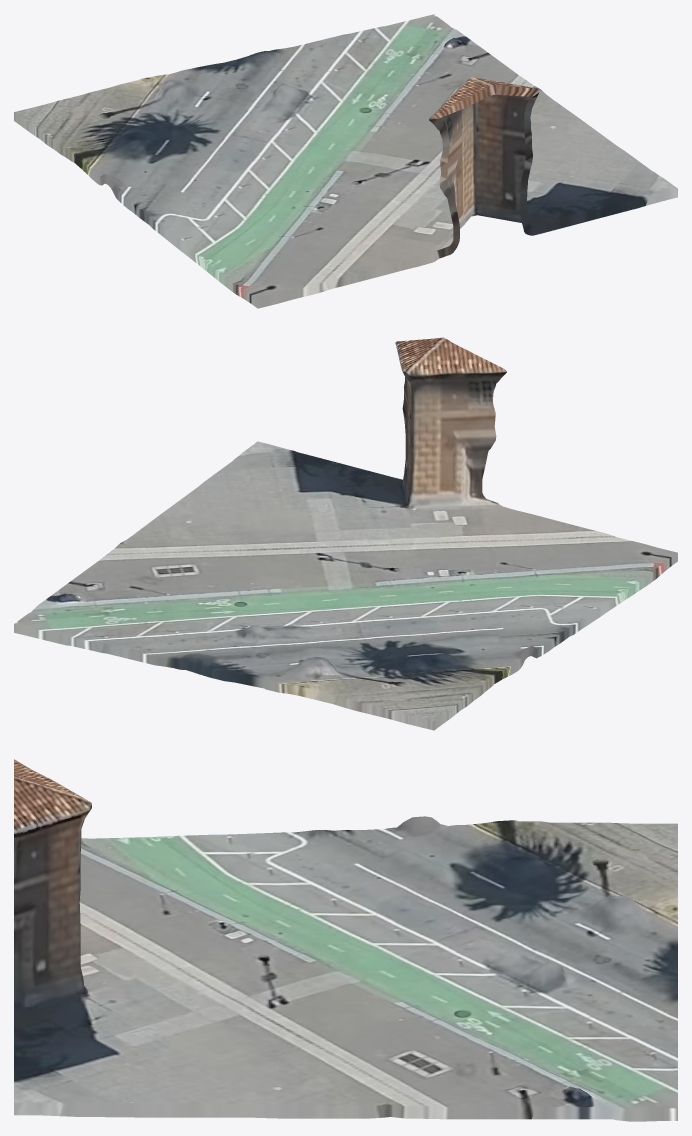
The model's file is z20-167793-405225-h0-yup-uvflip-v3-world.glb.
3 views of the same model, one above another, from view 1: azimuth 30°, elevation 25°; view 2: azimuth 150°, elevation 25°; view 3: azimuth 270°, elevation 25° (orthographic). The views are drawn at different scales.
Size of the model in its own units: 30.16 by 11.56 by 30.32.
Materials: 1 (1 with a texture image).
